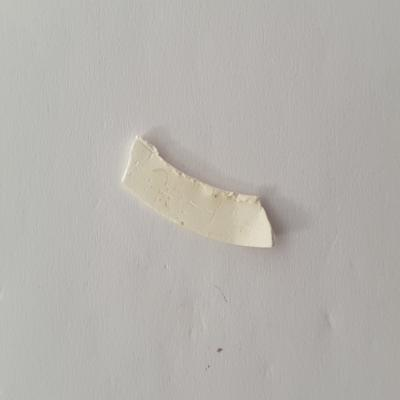plastic: (115, 127, 281, 261)
